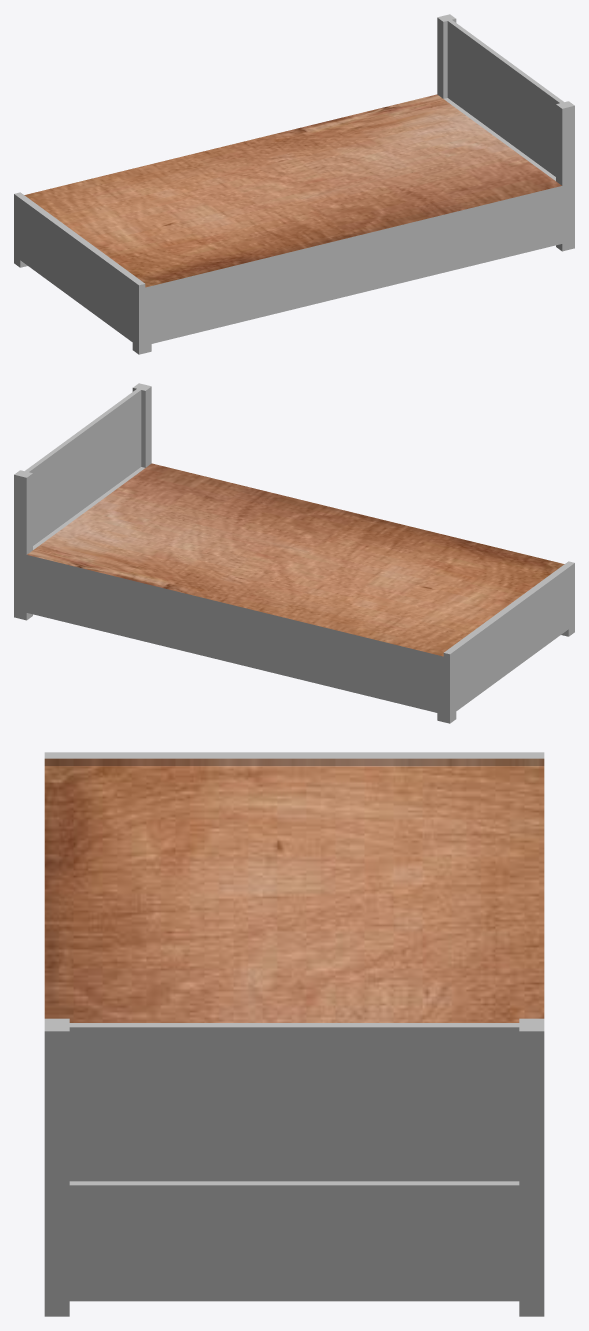
Rendered from bed.obj.
3 views of the same model, one above another, from view 1: azimuth 30°, elevation 25°; view 2: azimuth 150°, elevation 25°; view 3: azimuth 270°, elevation 25° (orthographic). The views are drawn at different scales.
Visible parts, largest first — view 1: Cube; view 2: Cube; view 3: Cube.
Boxes of the visible parts, x1,y1,x2,y2 form: Cube: (14,14,574,354); Cube: (14,383,574,723); Cube: (44,752,544,1316).
Bounding box in the file's own units: 5.36 × 1.68 × 2.66.
